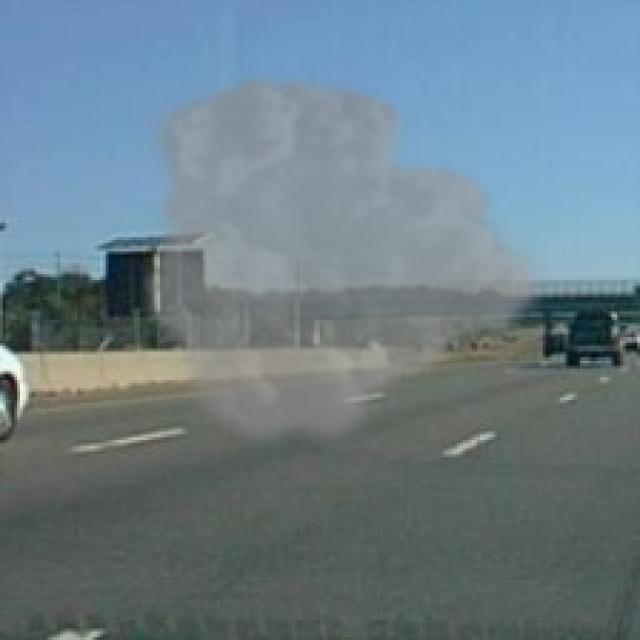Smoke: (137, 68, 552, 454)
